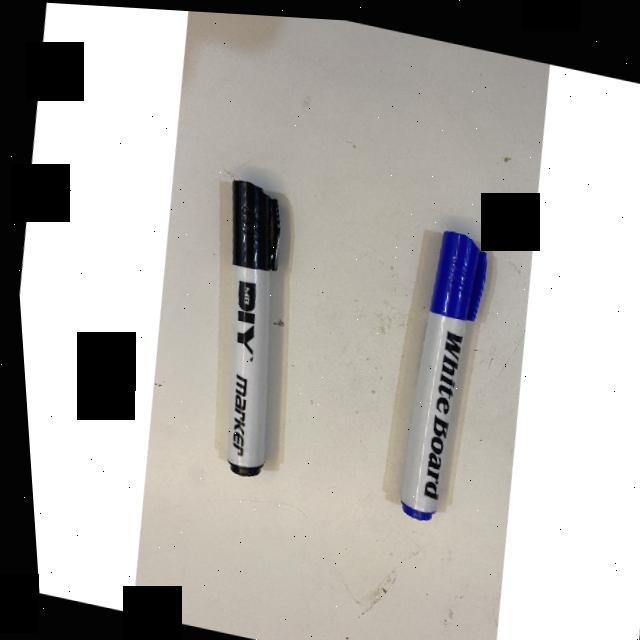marker: (397, 227, 493, 518), (222, 182, 283, 483)
